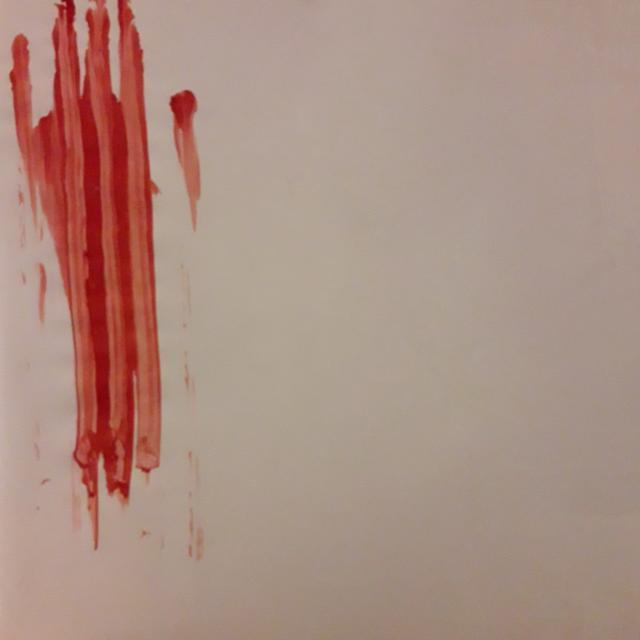wound: (0, 0, 223, 529)
